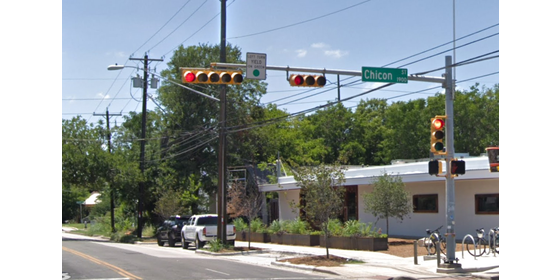left turn yield on green sign: (245, 50, 268, 82)
street name sign: (360, 64, 411, 87)
